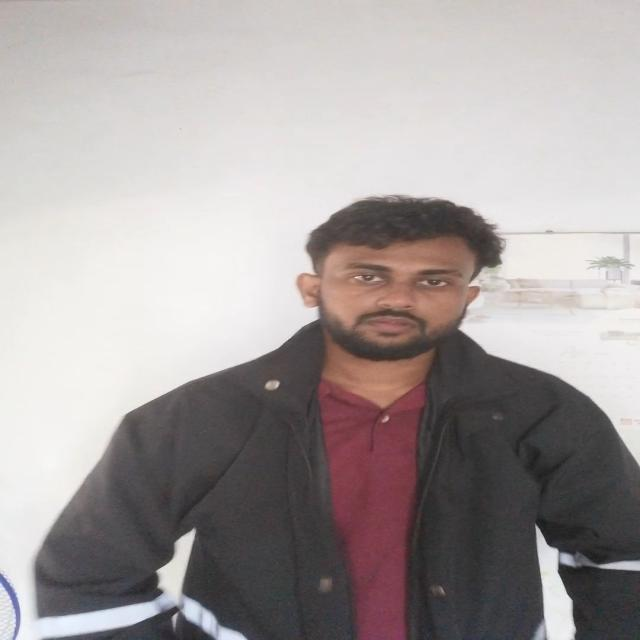Jacket_Wearer: (35, 294, 640, 640)
